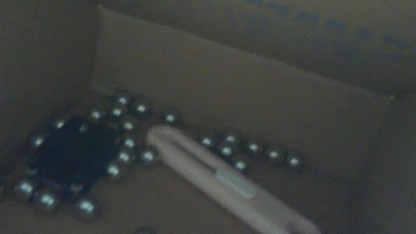ironball: (9, 176, 32, 199), (285, 146, 306, 171), (37, 191, 56, 212), (76, 201, 98, 218), (264, 144, 280, 164), (106, 163, 122, 181), (29, 132, 44, 150), (116, 119, 135, 133), (244, 137, 259, 154), (137, 146, 154, 161), (114, 91, 131, 106), (49, 113, 64, 130), (113, 149, 130, 164), (86, 107, 101, 122), (219, 129, 237, 141), (162, 110, 176, 125), (134, 102, 150, 115), (235, 157, 247, 174), (220, 146, 231, 161), (120, 137, 134, 148), (201, 134, 213, 146), (110, 106, 122, 118)
